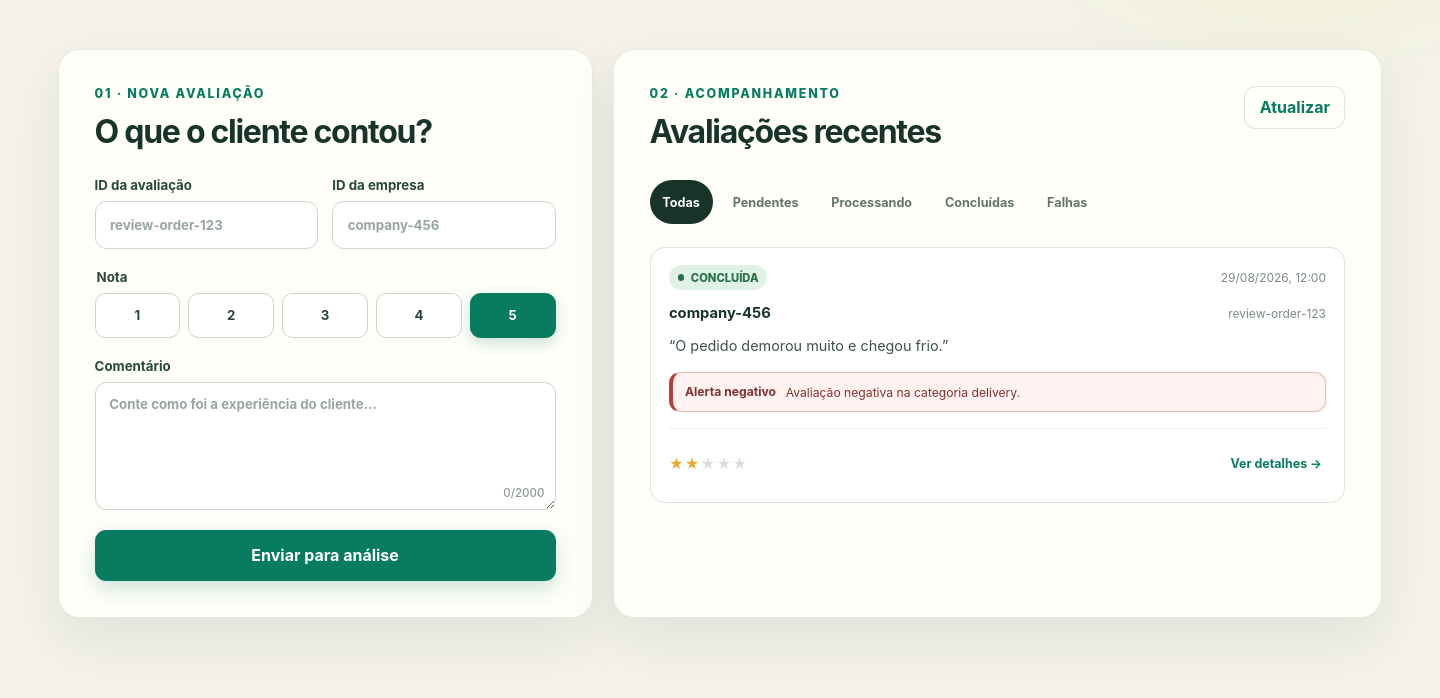
App › lista avaliações e exibe o resultado completo sob demanda
(page scrolled)
expect the text "company-456" is shown: met, box [669,304,771,322]
expect the text "Concluída" is shown: met, box [669,265,767,290]
Click the button "Ver detalhes →".
click(1276, 463)  # box [1226,441,1326,485]
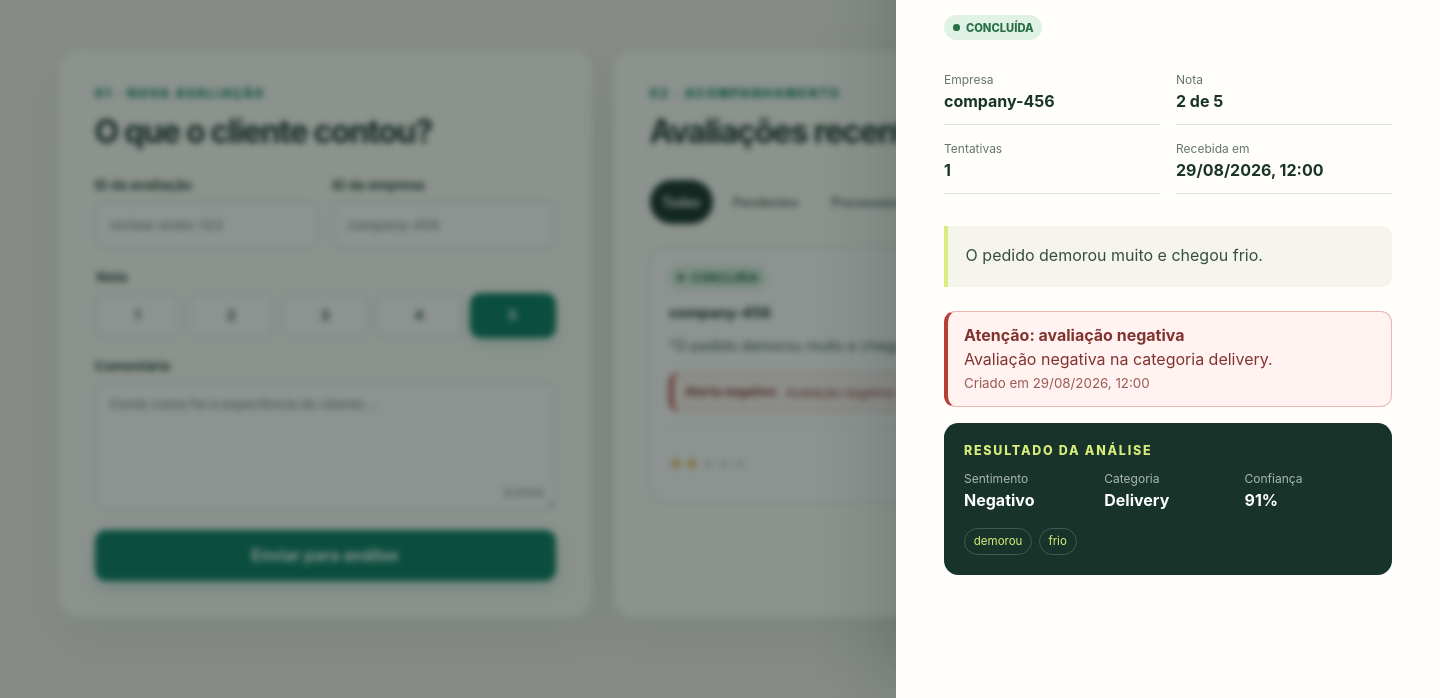
expect the text "Atenção: avaliação negativa" is shown: met, box [964,325,1184,345]
expect the text "Negativo" is shown: met, box [964,490,1034,510]
expect the text "91%" is shown: met, box [1244,490,1278,510]
